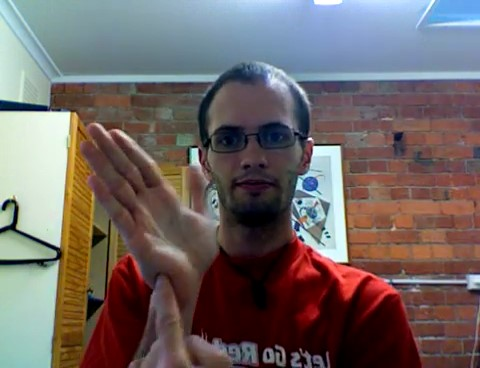T: (75, 117, 247, 367)
